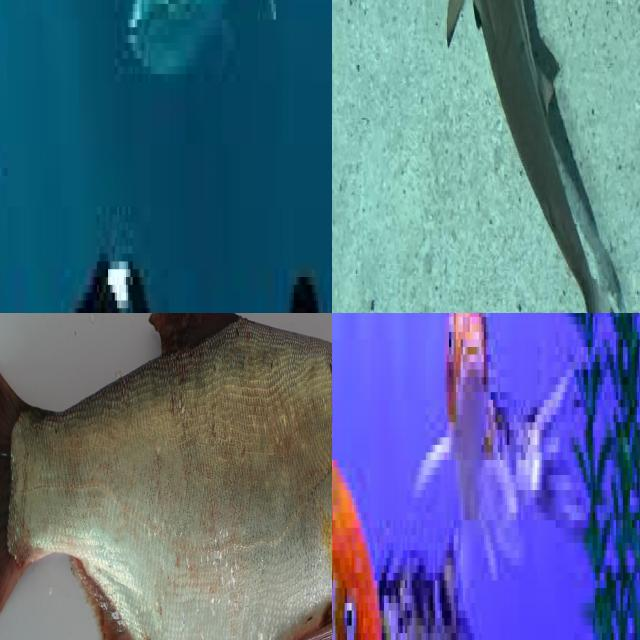fish: (0, 313, 332, 640), (0, 0, 332, 313), (332, 313, 640, 640), (435, 0, 627, 313)
